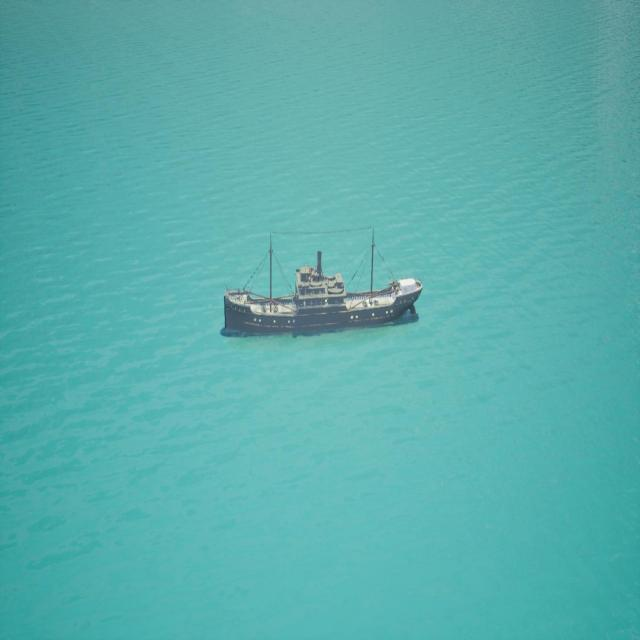fishing ship: (226, 229, 421, 337)
